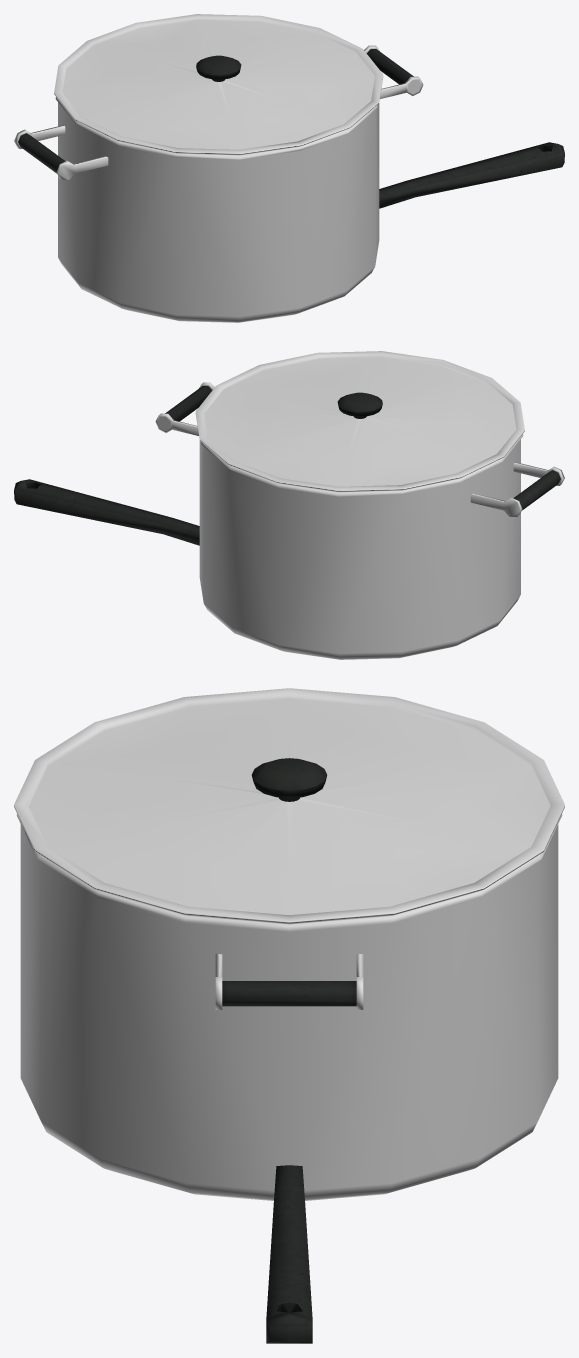
Rendered from topf_pfanne.fbx.
3 views of the same model, one above another, from view 1: azimuth 30°, elevation 25°; view 2: azimuth 150°, elevation 25°; view 3: azimuth 270°, elevation 25° (orthographic). The views are drawn at different scales.
Visible parts, largest first — view 1: Mesh, Mesh_ncl1_4, Mesh_ncl1_1; view 2: Mesh, Mesh_ncl1_4, Mesh_ncl1_1; view 3: Mesh, Mesh_ncl1_4, Mesh_ncl1_1.
Boxes of the visible parts, box(x1,y1,x2,y2) form: Mesh: box(14, 45, 423, 322); Mesh_ncl1_4: box(54, 14, 383, 155); Mesh_ncl1_1: box(379, 142, 564, 208); Mesh: box(155, 382, 564, 659); Mesh_ncl1_4: box(195, 351, 524, 492); Mesh_ncl1_1: box(14, 479, 199, 545); Mesh: box(16, 814, 562, 1200); Mesh_ncl1_4: box(14, 688, 564, 924); Mesh_ncl1_1: box(266, 1165, 312, 1343).
Bounding box in the file's own units: 21.19 × 7.66 × 11.57.
